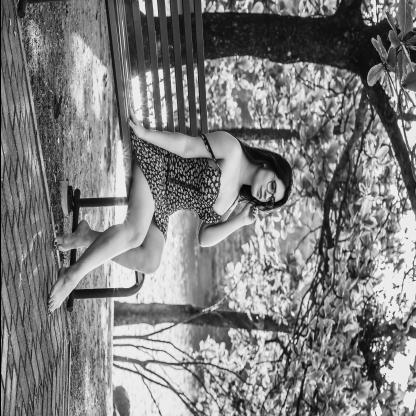Eye: (270, 182, 274, 190), (268, 198, 272, 202)
Mouth: (257, 186, 262, 200)
Nose: (263, 190, 271, 200)
